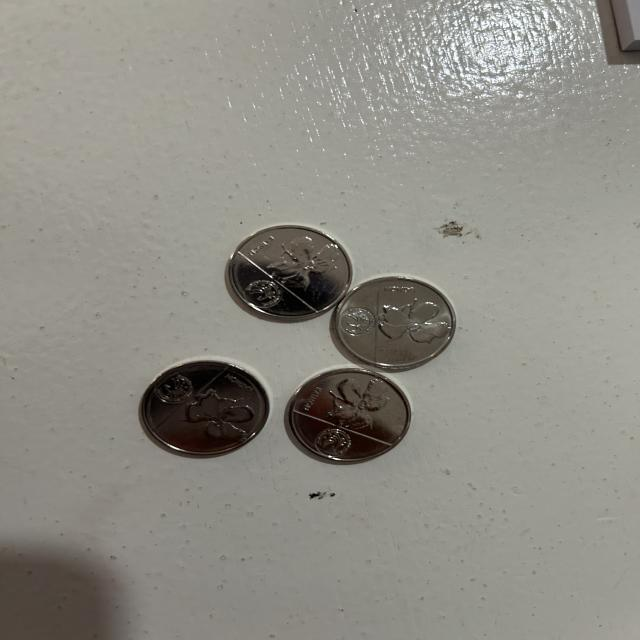25Cent_New_Back: (380, 294, 451, 352), (322, 372, 389, 426), (268, 238, 334, 284), (184, 396, 247, 440)
